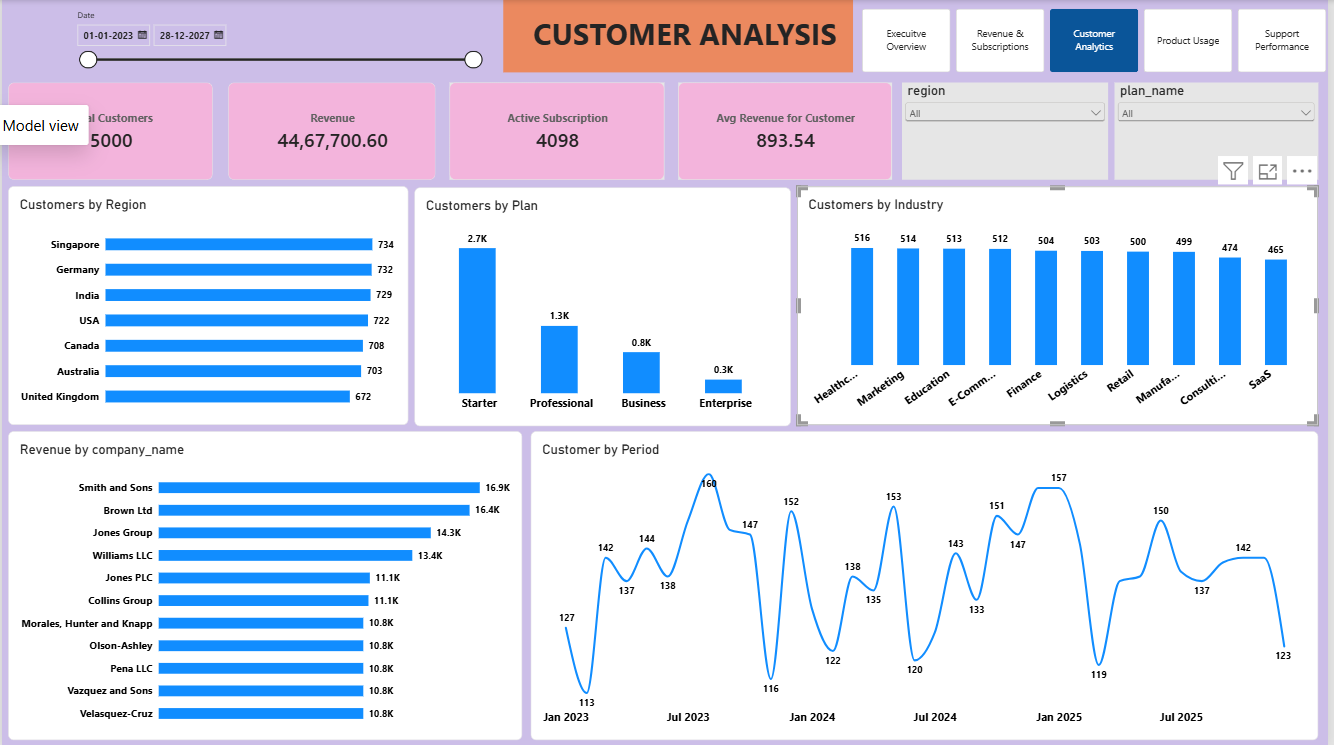

Layout of this report page (visuals, bound fields, positions):
{"tool":"powerbi","page":{"name":"Customer Analytics","canvas":[1920,1080],"ordinal":2},"visuals":[{"type":"textbox","box":[725.7,0,506.7,105],"z":0},{"type":"pageNavigator","box":[1245.3,12.3,675.1,92.6],"z":1000},{"type":"clusteredBarChart","title":"Customers by Region","fields":{"Y":["flowstack_analytics customers.Total Customers"],"Category":["flowstack_analytics customers.region"]},"box":[9,269.6,579.1,345.6],"z":2000},{"type":"clusteredColumnChart","title":"Customers by Plan","fields":{"Category":["flowstack_analytics plans.plan_name"],"Y":["flowstack_analytics customers.Total Customers"]},"box":[597.2,271.4,544.7,345.6],"z":3000},{"type":"lineChart","title":"Customer by Period","fields":{"Y":["CountNonNull(flowstack_analytics customers.customer_id)"],"Category":["flowstack_analytics customers.signup_date.Variation.Date Hierarchy.Year","flowstack_analytics customers.signup_date.Variation.Date Hierarchy.Month"]},"box":[765.5,624.3,1140.1,447],"z":4000},{"type":"clusteredBarChart","fields":{"Y":["flowstack_analytics invoices.Revenue"],"Category":["flowstack_analytics customers.company_name"]},"box":[9,624.3,743.8,447],"z":5000},{"type":"cardVisual","fields":{"Data":["flowstack_analytics customers.Total Customers"]},"box":[9,119.4,296.8,141.2],"z":6000},{"type":"cardVisual","fields":{"Data":["flowstack_analytics invoices.Revenue"]},"box":[327.5,119.4,300.4,141.2],"z":7000},{"type":"cardVisual","fields":{"Data":["flowstack_analytics invoices.Avg Revenue for Customer"]},"box":[979,119.4,309.5,141.2],"z":8000},{"type":"cardVisual","fields":{"Data":["flowstack_analytics subscriptions.Active Subscription"]},"box":[647.9,119.4,311.3,141.2],"z":9000},{"type":"slicer","fields":{"Values":["flowstack_analytics invoices.invoice_date"]},"box":[101.3,12.7,597.2,92.3],"z":10000},{"type":"slicer","fields":{"Values":["flowstack_analytics customers.region"]},"box":[1303,119.4,298.6,141.2],"z":11000},{"type":"slicer","fields":{"Values":["flowstack_analytics plans.plan_name"]},"box":[1610.6,119.4,295,141.2],"z":12000},{"type":"clusteredColumnChart","title":"Customers by Industry","fields":{"Category":["flowstack_analytics customers.industry"],"Y":["Count(flowstack_analytics customers.customer_id)"]},"box":[1150.9,269.6,754.6,345.6],"z":13000}]}

Visuals, with their boxes on the page's 1920x1080 design canvas (x1, y1, x2, y2). These are canvas units, not pixel positions in the 1334x745 screenshot, which may show the page scaled, cropped or inside an application window:
textbox: bbox=[726, 0, 1232, 105]
pageNavigator: bbox=[1245, 12, 1920, 105]
"Customers by Region" clusteredBarChart: bbox=[9, 270, 588, 615]
"Customers by Plan" clusteredColumnChart: bbox=[597, 271, 1142, 617]
"Customer by Period" lineChart: bbox=[766, 624, 1906, 1071]
clusteredBarChart - flowstack_analytics invoices.Revenue x flowstack_analytics customers.company_name: bbox=[9, 624, 753, 1071]
cardVisual - flowstack_analytics customers.Total Customers: bbox=[9, 119, 306, 261]
cardVisual - flowstack_analytics invoices.Revenue: bbox=[328, 119, 628, 261]
cardVisual - flowstack_analytics invoices.Avg Revenue for Customer: bbox=[979, 119, 1288, 261]
cardVisual - flowstack_analytics subscriptions.Active Subscription: bbox=[648, 119, 959, 261]
slicer - flowstack_analytics invoices.invoice_date: bbox=[101, 13, 698, 105]
slicer - flowstack_analytics customers.region: bbox=[1303, 119, 1602, 261]
slicer - flowstack_analytics plans.plan_name: bbox=[1611, 119, 1906, 261]
"Customers by Industry" clusteredColumnChart: bbox=[1151, 270, 1906, 615]
